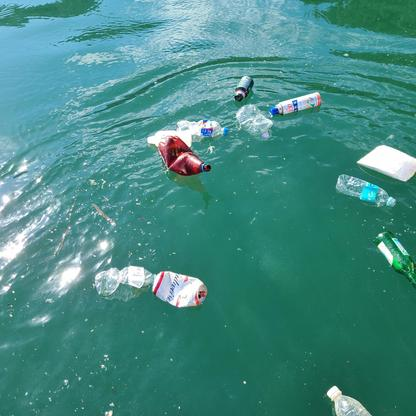can: (152, 271, 207, 309)
plastic bottle: (157, 134, 211, 176), (336, 175, 397, 208), (94, 266, 155, 296), (327, 384, 374, 416), (269, 90, 323, 116), (238, 104, 273, 140), (175, 118, 230, 140), (233, 76, 253, 100)
